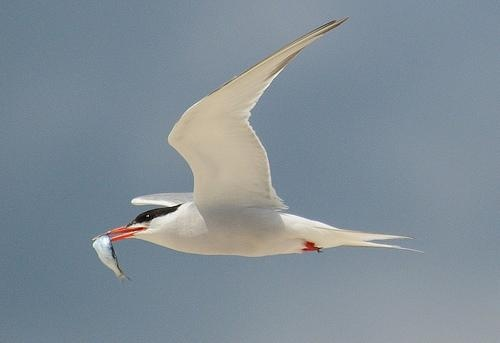bird: (97, 17, 386, 259)
